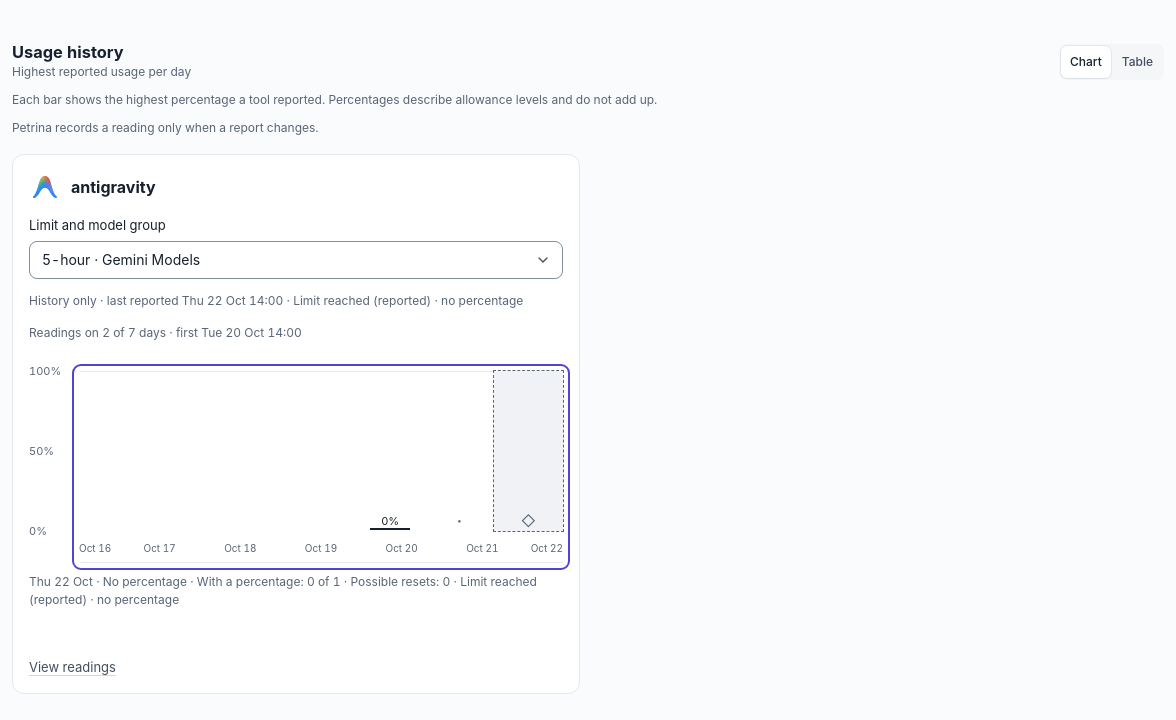
Scenario: leaves dates before the first report blank, preserving a later missing day, zero and status report
Expected: the element with class "zero" reads "0%", [381,514,399,528]
Expected: the element with class "limit-history-bar-space" reads "·", [456,509,462,533]
Press Home in the element with class "limit-history-plot", box [79,371,563,563]
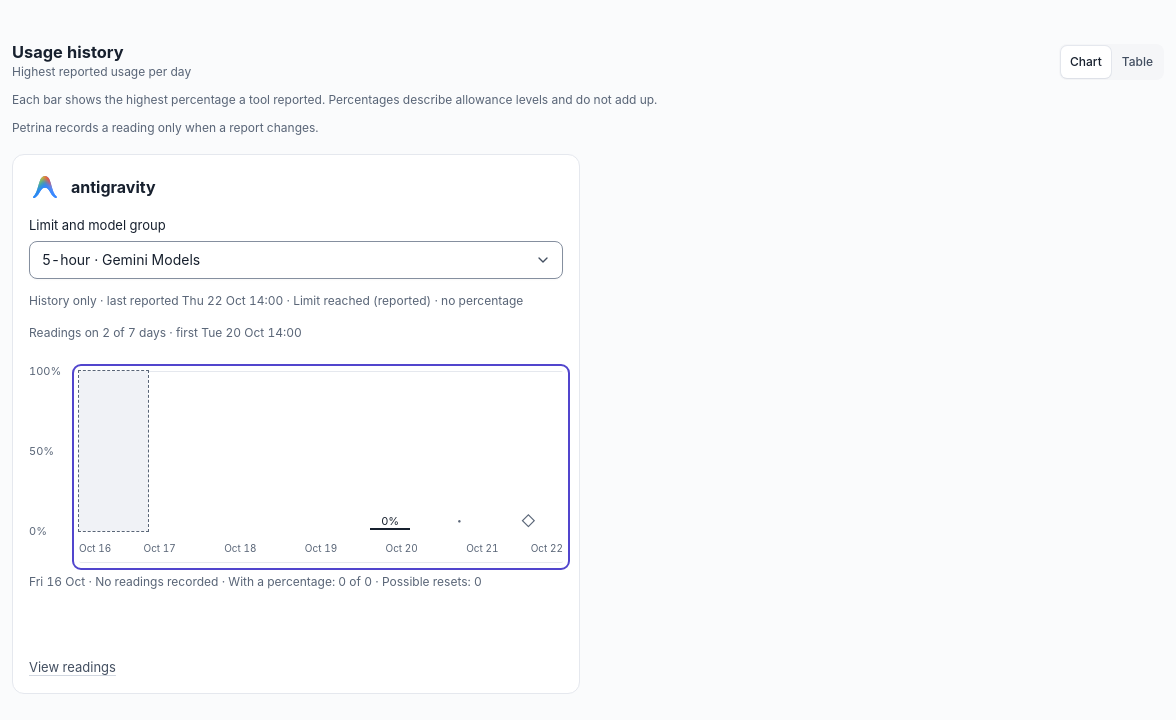
Expected: the tooltip shows "No readings recorded", [29,574,482,589]
Click the tab "Table" at (1137, 62), box [1113,46,1162,78]
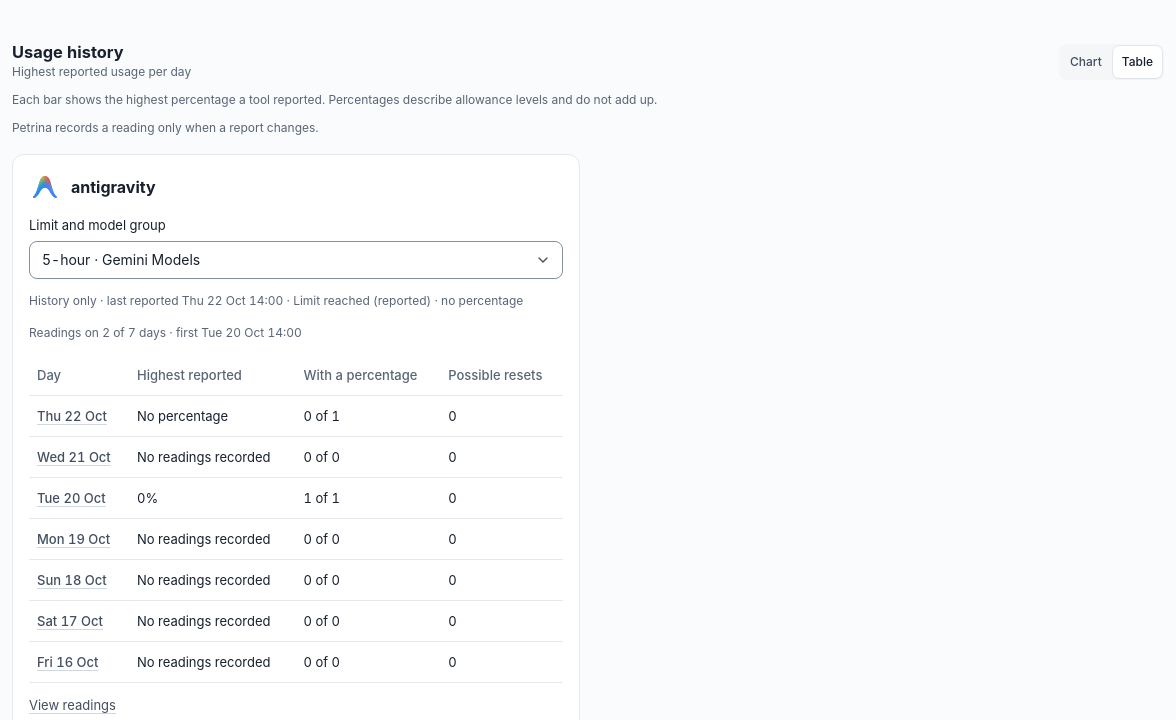
Expected: the table shows "No readings recorded", [137,449,270,465]
